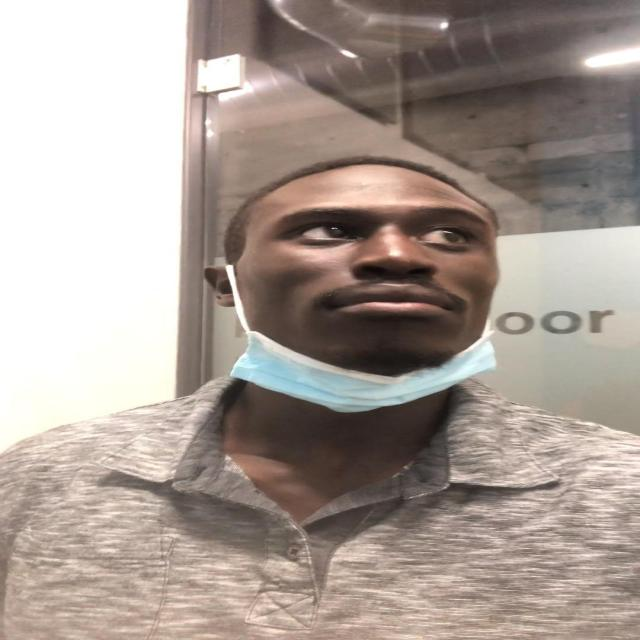face: (227, 178, 502, 368)
